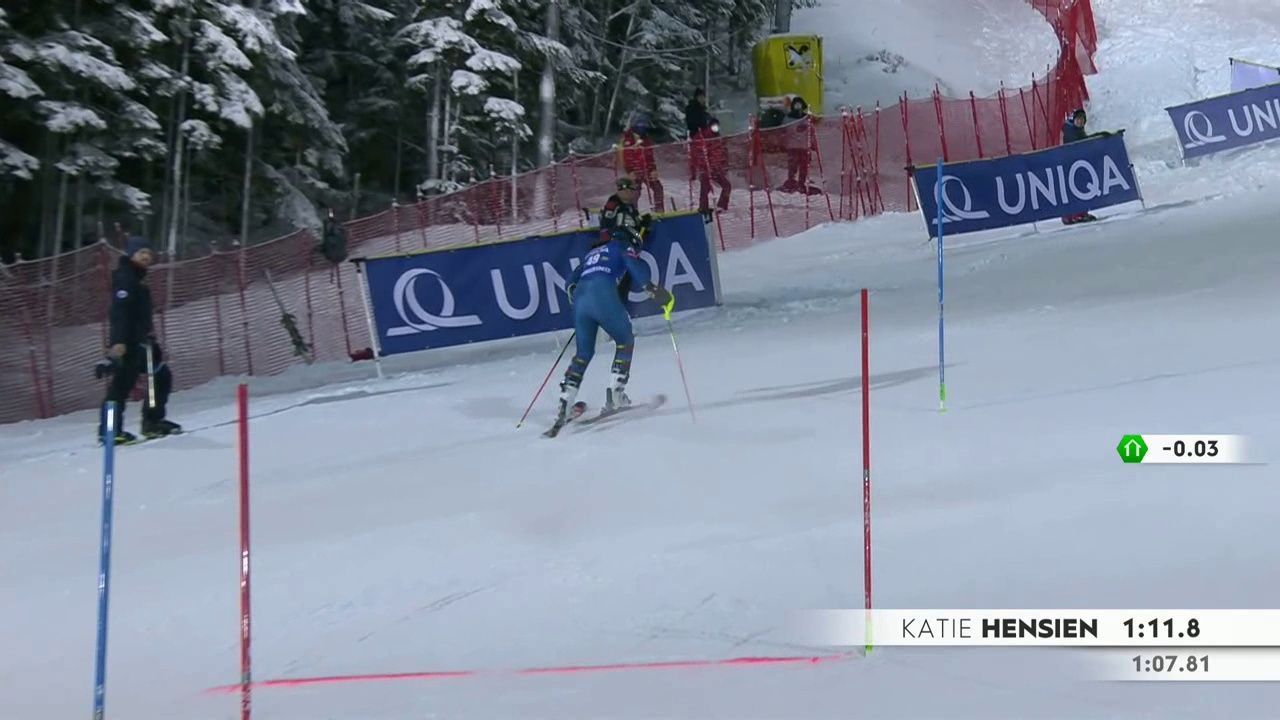uniqa: (378, 233, 714, 345), (929, 145, 1119, 237), (1170, 64, 1279, 166)
